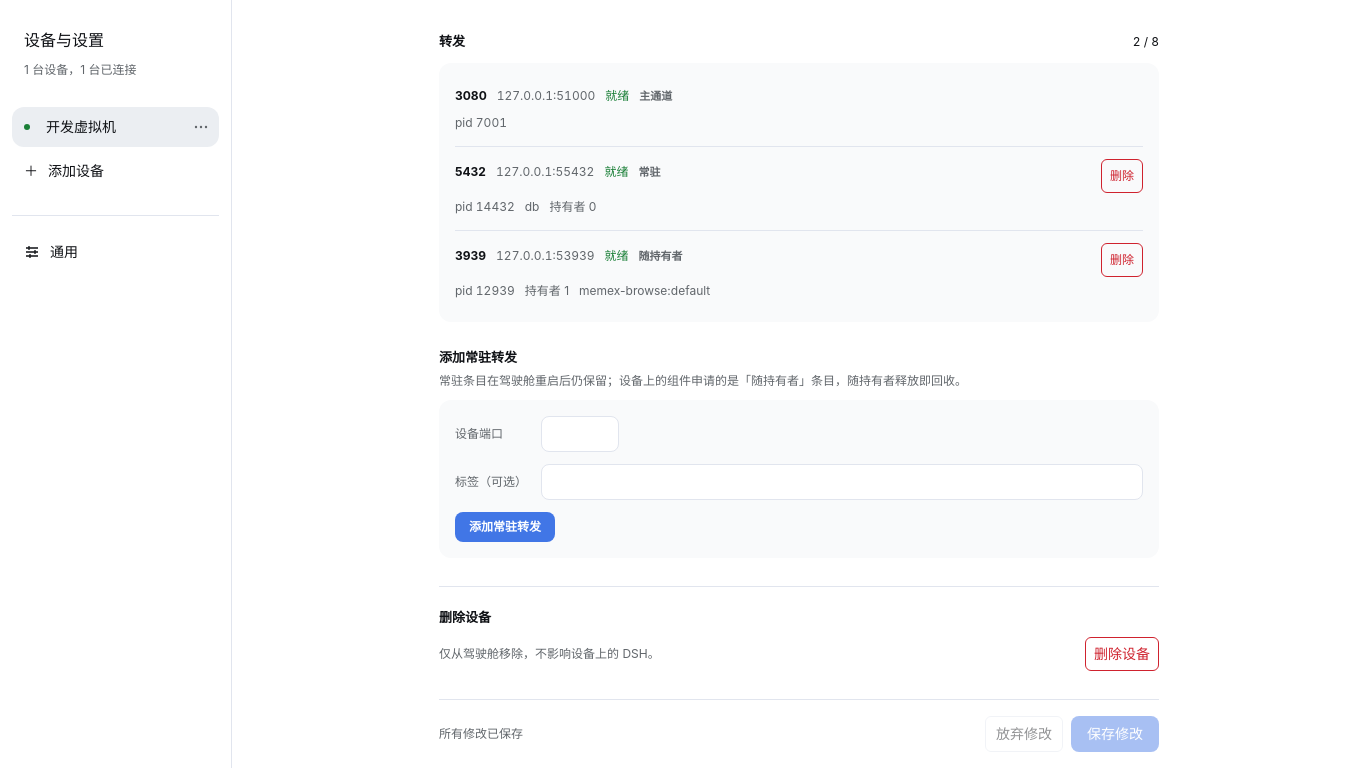
Scenario: device panel forwards list › keeps the create controls and their failure text in one labelled group
(page scrolled)
Expected: the heading "添加常驻转发" is shown, [439,349,517,365]
Expected: the field labelled "标签（可选）" is shown, [541,464,1143,500]
Step 1. Type "6379" into the field labelled "设备端口" → (580, 434), box [541,416,619,452]
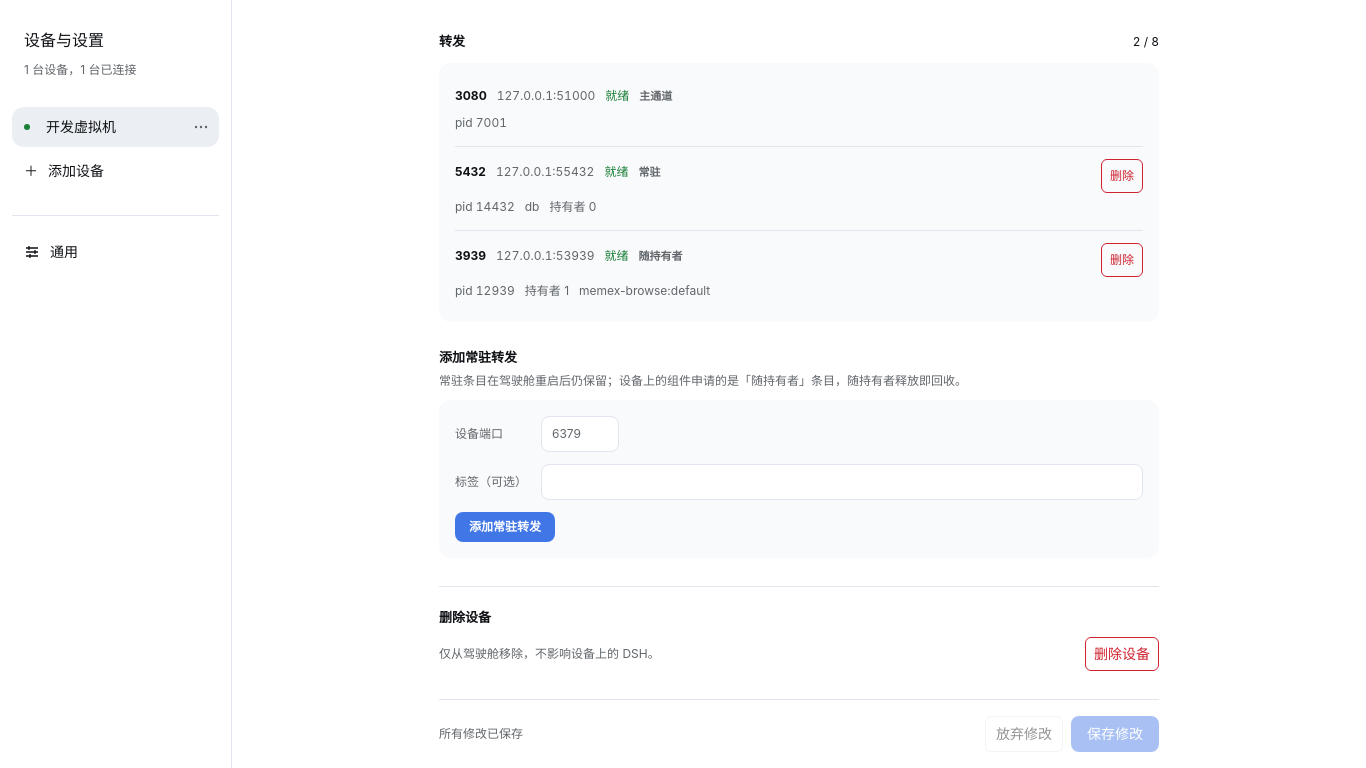
Step 2. Click the button "添加常驻转发" → click(505, 527), box [455,512,555,542]
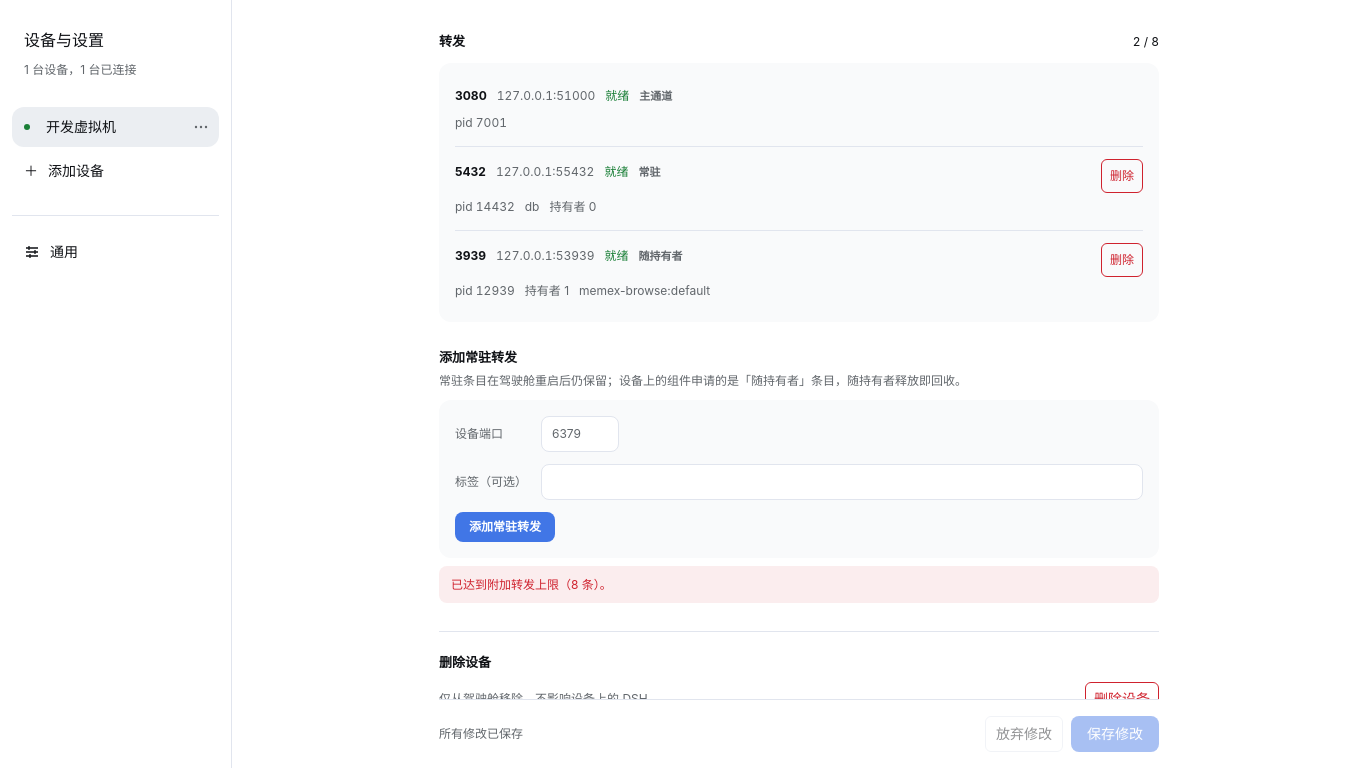
Expected: the message reads "已达到附加转发上限（8 条）。", [451,577,612,592]
